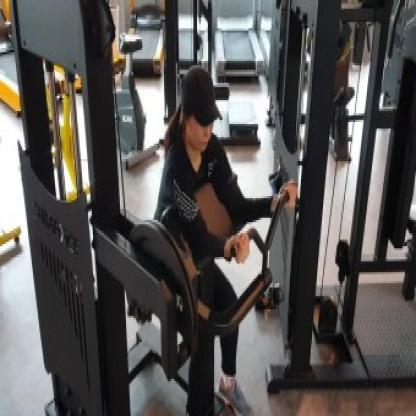arm curl machine: (22, 179, 297, 416)
